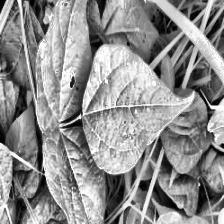ALS: (32, 0, 89, 128), (20, 188, 82, 224)
